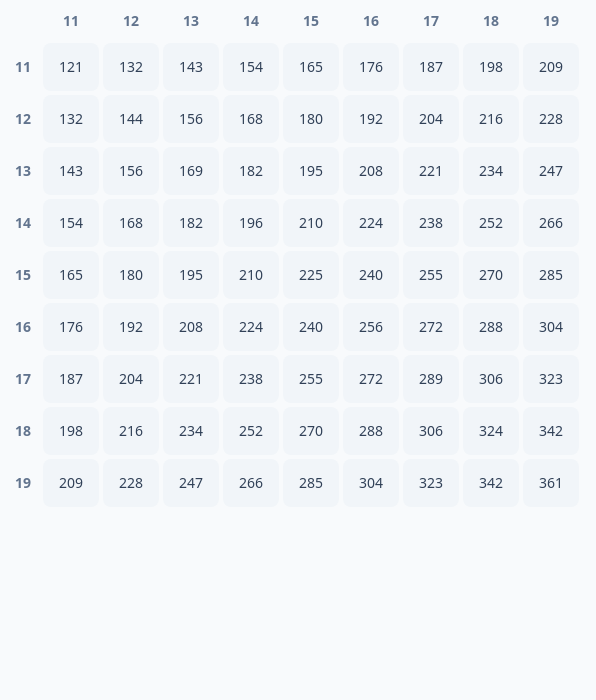
Test: MultiplicationTable › セルをタップすると式とインド式解説が表示される
The width and height of the screenshot is (596, 700).
Click the 1st button "156": (191, 119) [163, 95, 219, 143]
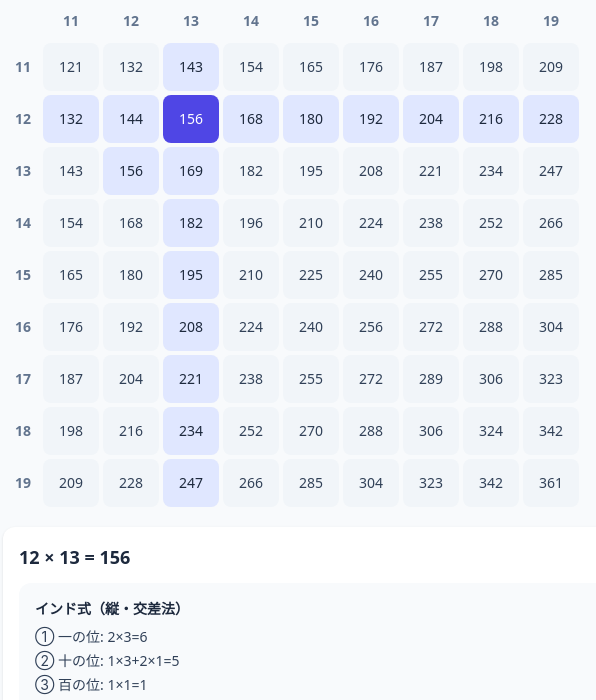
Expected: the text "12 × 13 = 156" is shown, [19, 545, 130, 569]
Expected: the text "インド式（縦・交差法）" is shown, [35, 599, 189, 618]
